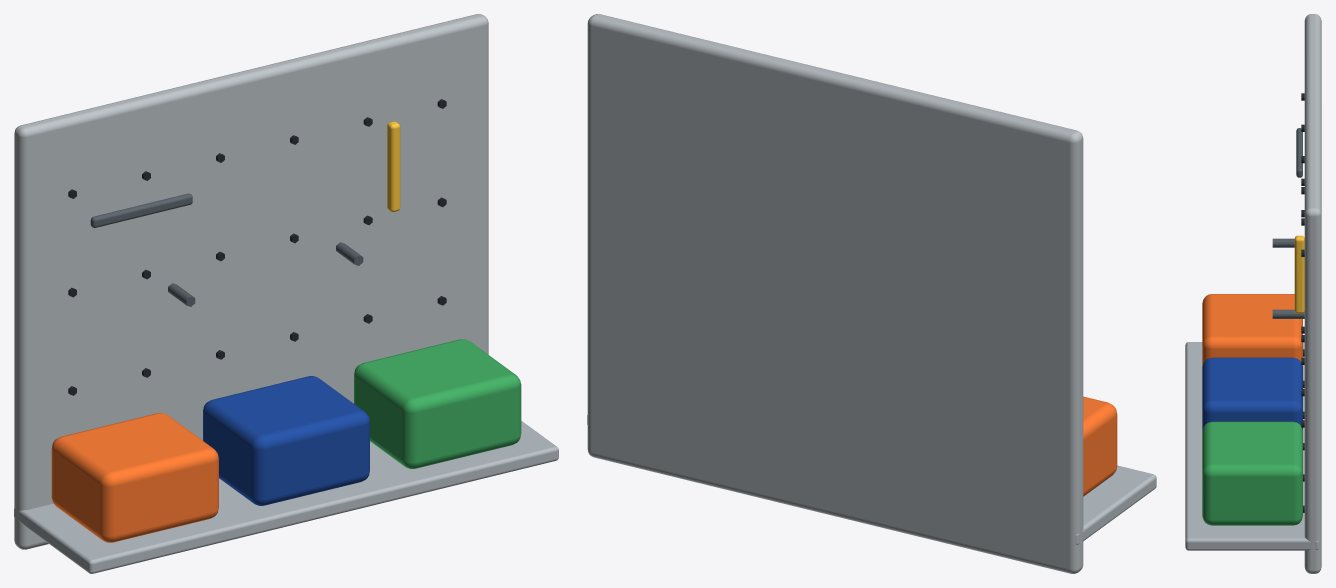
File: tool-shelf.glb
3 views of the same model, side by side, from view 1: azimuth 30°, elevation 25°; view 2: azimuth 150°, elevation 25°; view 3: azimuth 270°, elevation 25° (orthographic). The views are drawn at different scales.
Parts seen in each view (by area): view 1: tool-shelf-panel-grey, tool-shelf-aluminium, tool-shelf-safety-orange, tool-shelf-signal-green, tool-shelf-nasa-blue, tool-shelf-dark-steel, tool-shelf-dark-polymer, tool-shelf-hazard-yellow; view 2: tool-shelf-panel-grey, tool-shelf-aluminium, tool-shelf-safety-orange; view 3: tool-shelf-signal-green, tool-shelf-panel-grey, tool-shelf-aluminium, tool-shelf-nasa-blue, tool-shelf-safety-orange, tool-shelf-dark-steel, tool-shelf-hazard-yellow, tool-shelf-dark-polymer.
Boxes of the visible parts, <box> form: tool-shelf-panel-grey: <box>14,14,488,549</box>; tool-shelf-aluminium: <box>14,421,558,573</box>; tool-shelf-safety-orange: <box>51,413,218,542</box>; tool-shelf-signal-green: <box>354,339,521,468</box>; tool-shelf-nasa-blue: <box>203,376,369,505</box>; tool-shelf-dark-steel: <box>90,193,363,306</box>; tool-shelf-dark-polymer: <box>68,99,446,395</box>; tool-shelf-hazard-yellow: <box>387,121,400,212</box>; tool-shelf-panel-grey: <box>587,14,1083,573</box>; tool-shelf-aluminium: <box>587,415,1156,544</box>; tool-shelf-safety-orange: <box>1083,396,1117,496</box>; tool-shelf-signal-green: <box>1202,421,1302,525</box>; tool-shelf-panel-grey: <box>1304,14,1321,573</box>; tool-shelf-aluminium: <box>1185,342,1319,550</box>; tool-shelf-nasa-blue: <box>1202,357,1302,430</box>; tool-shelf-safety-orange: <box>1202,294,1302,366</box>; tool-shelf-dark-steel: <box>1272,128,1304,318</box>; tool-shelf-hazard-yellow: <box>1294,235,1304,313</box>; tool-shelf-dark-polymer: <box>1301,93,1304,512</box>.
Size of the model in its own units: 1.4 by 1.2 by 0.405.
